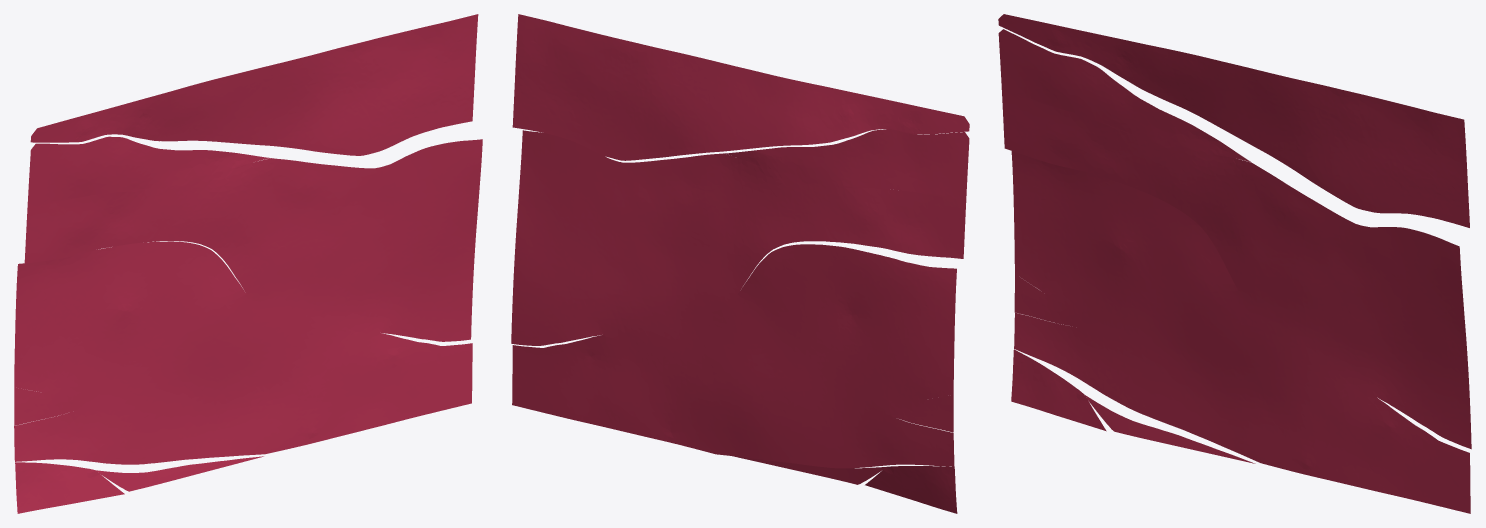
File: 13_BaseLowerScottishCoalMeasures_50m_GGERFS_Predrill.gltf
3 renders of one model, left to right at view 1: azimuth 30°, elevation 25°; view 2: azimuth 150°, elevation 25°; view 3: azimuth 330°, elevation 25°, orthographic. The views are drawn at different scales.
Parts seen in each view (by area): view 1: 13_BASELOWERSCOTTISHCOALMEASURES_50M_GGERFS_PREDRILL; view 2: 13_BASELOWERSCOTTISHCOALMEASURES_50M_GGERFS_PREDRILL; view 3: 13_BASELOWERSCOTTISHCOALMEASURES_50M_GGERFS_PREDRILL.
Part boxes in pixels (x1,y1,x2,y2): 13_BASELOWERSCOTTISHCOALMEASURES_50M_GGERFS_PREDRILL: [14, 14, 482, 513]; 13_BASELOWERSCOTTISHCOALMEASURES_50M_GGERFS_PREDRILL: [511, 14, 969, 513]; 13_BASELOWERSCOTTISHCOALMEASURES_50M_GGERFS_PREDRILL: [998, 14, 1471, 513].
Bounding box in the file's own units: 5005 × 4150 × 327.
